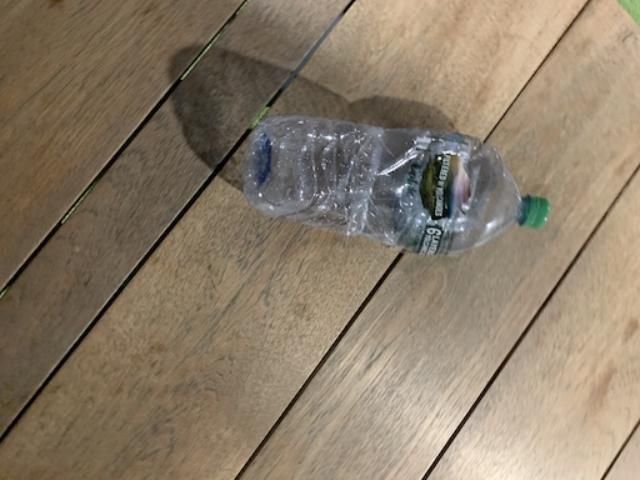plastic: (242, 114, 546, 252)
